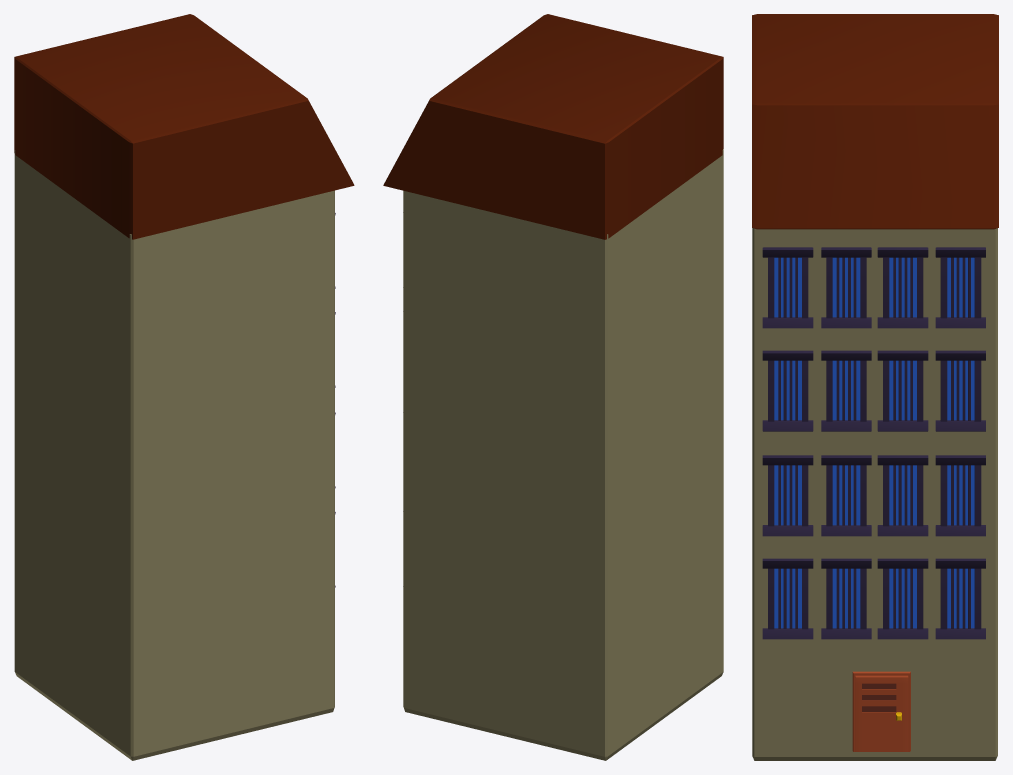
File: house.fbx
3 renders of one model, left to right at view 1: azimuth 30°, elevation 25°; view 2: azimuth 150°, elevation 25°; view 3: azimuth 270°, elevation 25°, orthographic. The views are drawn at different scales.
Parts seen in each view (by area): view 1: Cube.137; view 2: Cube.137; view 3: Cube.137.
Boxes of the visible parts, left/top/right/bottom form: Cube.137: left=14, top=14, right=354, bottom=760; Cube.137: left=383, top=14, right=723, bottom=760; Cube.137: left=752, top=14, right=998, bottom=760.
Size of the model in its own units: 838 by 2207 by 766.
